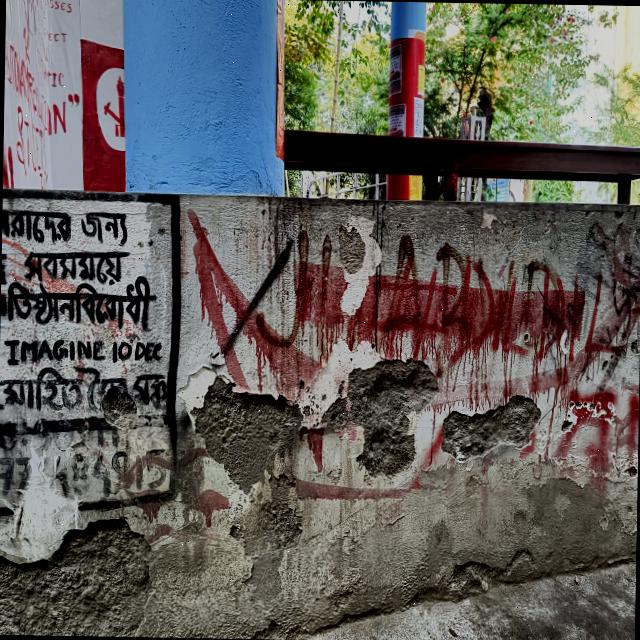Graffiti: (0, 188, 640, 554), (2, 0, 126, 194)
Scaling: (0, 518, 150, 636), (322, 360, 438, 475), (191, 377, 301, 492), (442, 395, 541, 460)
pollution -moisture induced blackening: (0, 518, 150, 636), (322, 360, 438, 475), (191, 377, 301, 492), (442, 395, 541, 460)
